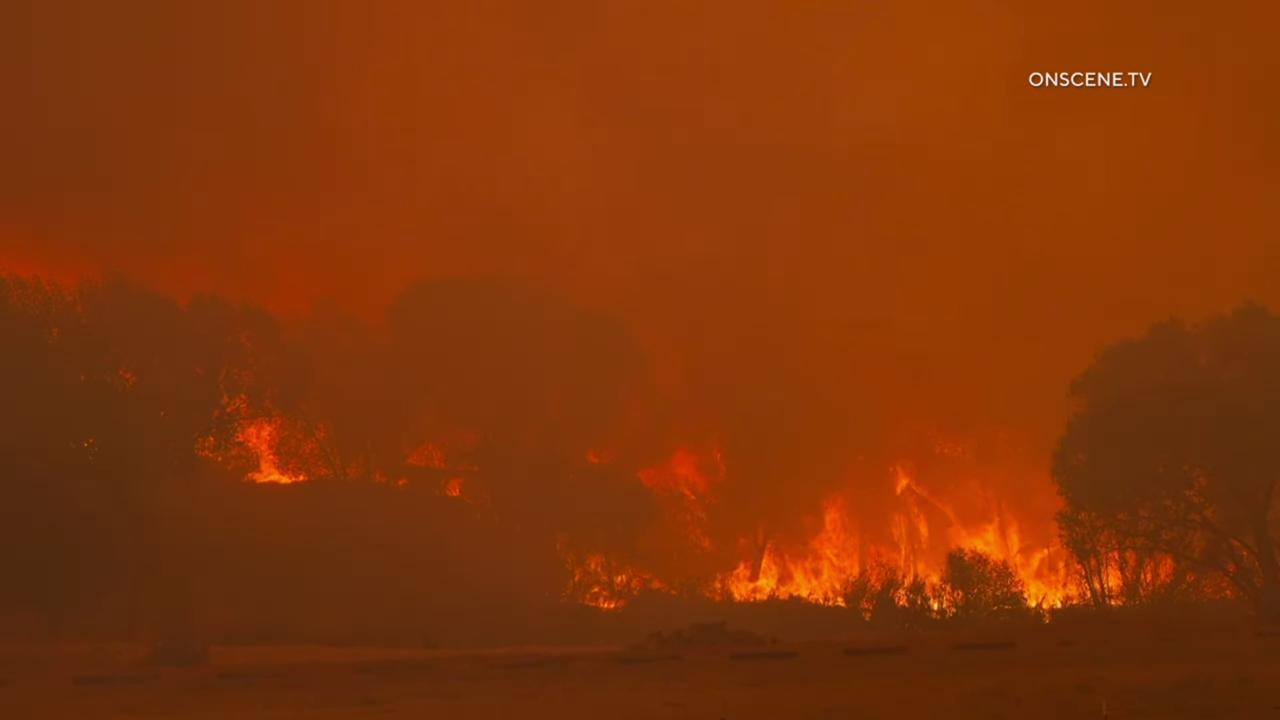fire: (702, 460, 1201, 626), (191, 388, 338, 487), (631, 437, 734, 555), (552, 541, 683, 610), (404, 435, 482, 472), (434, 473, 465, 502), (375, 467, 391, 485), (394, 478, 413, 491)
smoke: (0, 0, 1280, 720)
